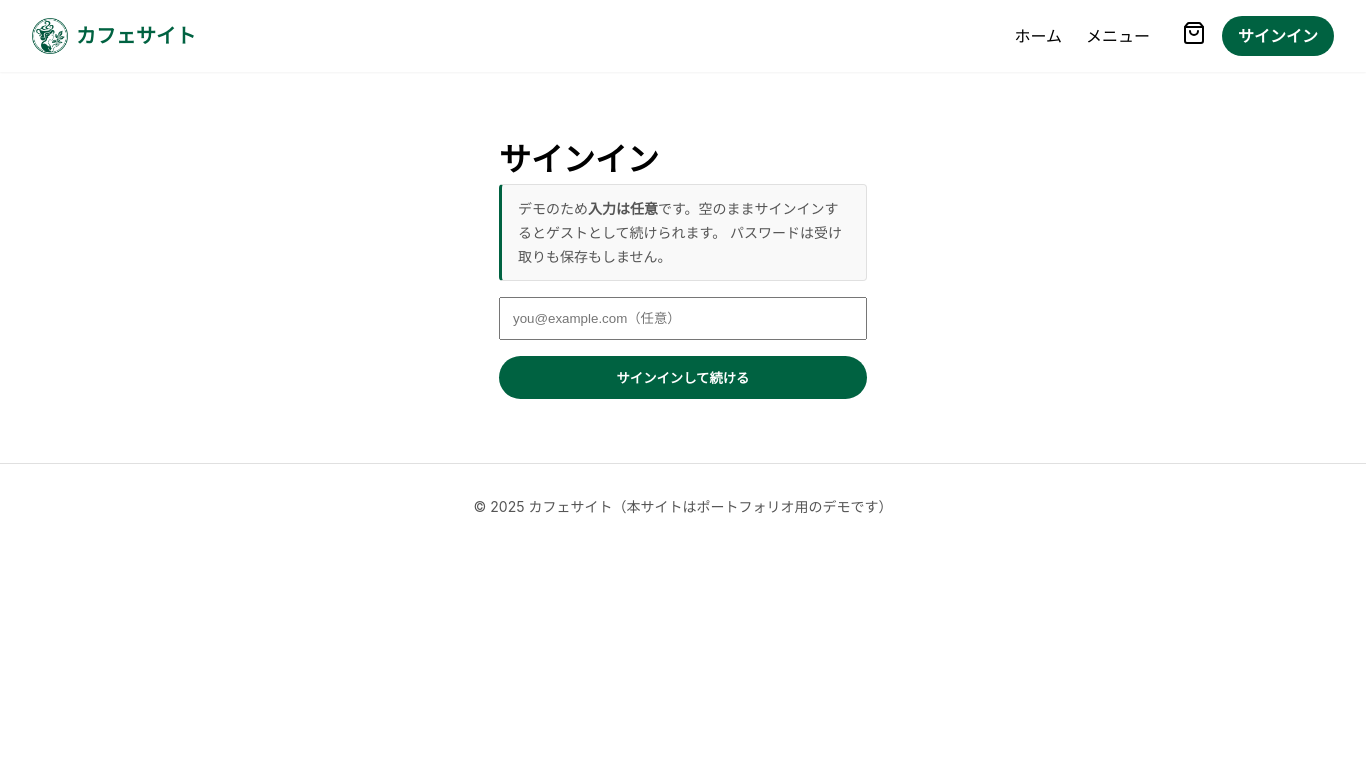
Test: サインイン › 空のままでも進める（デモの流れを止めない）
Click the button "サインインして続ける" at (683, 378), box [499,356,867,399]
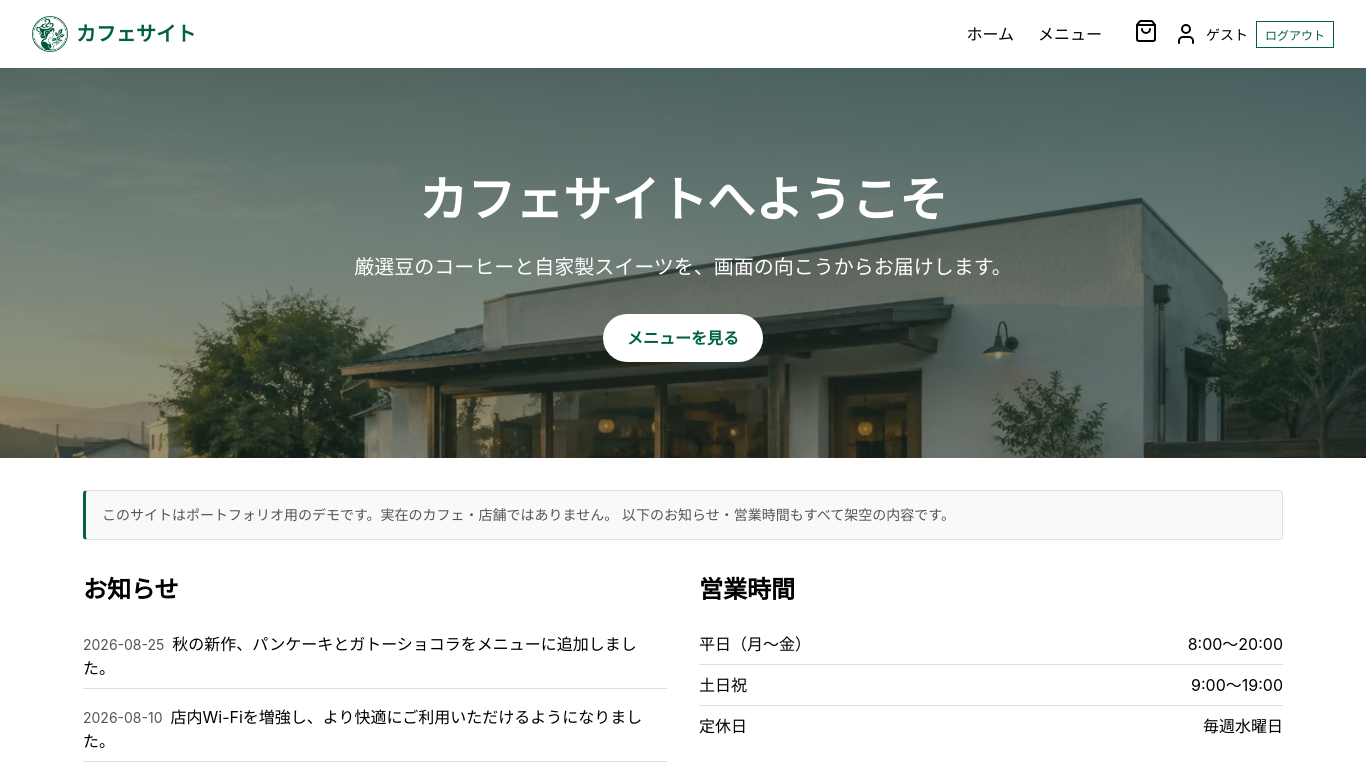
Expected: the heading "カフェサイトへようこそ" is shown, [419,170,947,229]
